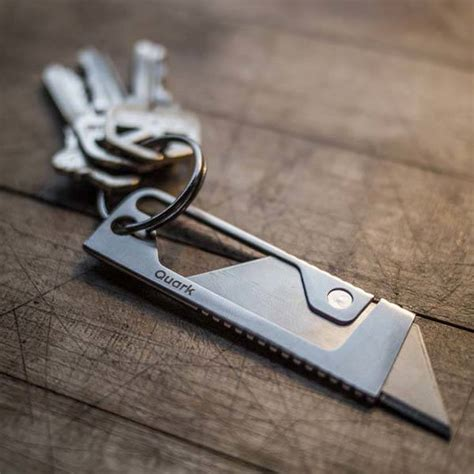knife: (83, 191, 454, 442)
